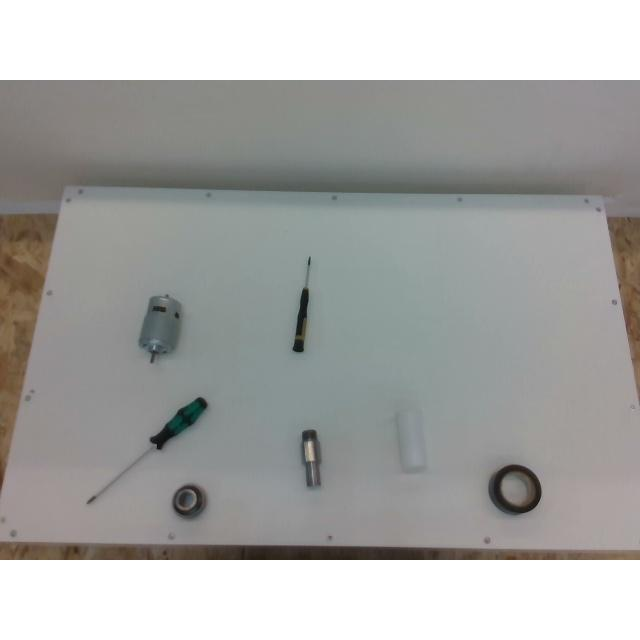Axis2: (301, 429, 321, 487)
Bearing2: (172, 484, 204, 516)
Motor2: (139, 294, 181, 362)
Screwdriver: (86, 397, 206, 503)
Spacer: (394, 400, 426, 472)
